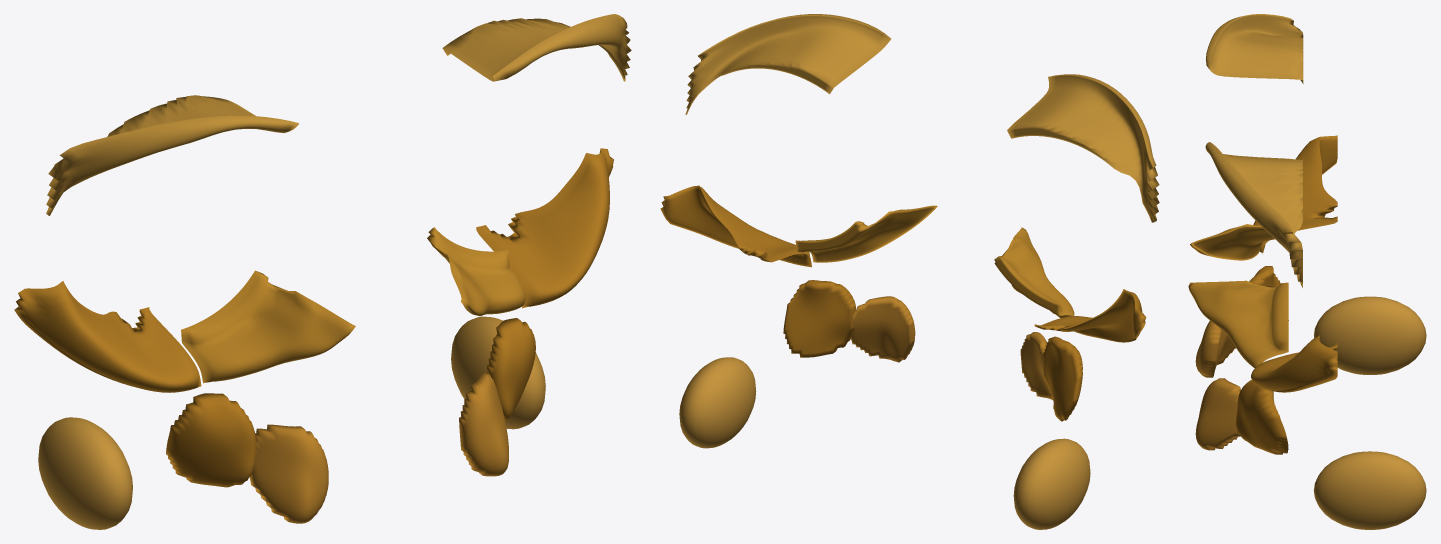
Rendered from lemak-dalam.glb.
3 renders of one model, left to right at view 1: azimuth 30°, elevation 25°; view 2: azimuth 150°, elevation 25°; view 3: azimuth 270°, elevation 25°, orthographic. The views are drawn at different scales.
Visible parts, largest first — view 1: lemak-dalam__soof-medial-r, lemak-dalam__soof-lateral-r, lemak-dalam__soof-lateral-l, lemak-dalam__roof-r, lemak-dalam__bantalan-lemak-bukal-r, lemak-dalam__roof-l, lemak-dalam__pipi-medial-dalam-lateral-r, lemak-dalam__pipi-medial-dalam-medial-r, lemak-dalam__soof-medial-l, lemak-dalam__bantalan-lemak-bukal-l, lemak-dalam__pipi-medial-dalam-medial-l, lemak-dalam__pipi-medial-dalam-lateral-l; view 2: lemak-dalam__roof-l, lemak-dalam__roof-r, lemak-dalam__bantalan-lemak-bukal-l, lemak-dalam__bantalan-lemak-bukal-r, lemak-dalam__soof-lateral-l, lemak-dalam__pipi-medial-dalam-lateral-l, lemak-dalam__pipi-medial-dalam-medial-l, lemak-dalam__soof-medial-l, lemak-dalam__soof-medial-r, lemak-dalam__soof-lateral-r, lemak-dalam__pipi-medial-dalam-lateral-r, lemak-dalam__pipi-medial-dalam-medial-r; view 3: lemak-dalam__bantalan-lemak-bukal-l, lemak-dalam__bantalan-lemak-bukal-r, lemak-dalam__roof-l, lemak-dalam__soof-medial-l, lemak-dalam__roof-r, lemak-dalam__soof-lateral-l, lemak-dalam__soof-lateral-r, lemak-dalam__pipi-medial-dalam-lateral-l, lemak-dalam__pipi-medial-dalam-medial-l, lemak-dalam__soof-medial-r, lemak-dalam__pipi-medial-dalam-medial-r, lemak-dalam__pipi-medial-dalam-lateral-r.
Part boxes in pixels (x1,y1,x2,y2): lemak-dalam__soof-medial-r: (181, 270, 355, 383); lemak-dalam__soof-lateral-r: (14, 281, 201, 392); lemak-dalam__soof-lateral-l: (476, 148, 613, 308); lemak-dalam__roof-r: (46, 95, 298, 215); lemak-dalam__bantalan-lemak-bukal-r: (38, 417, 132, 529); lemak-dalam__roof-l: (442, 14, 631, 81); lemak-dalam__pipi-medial-dalam-lateral-r: (166, 393, 256, 487); lemak-dalam__pipi-medial-dalam-medial-r: (249, 424, 328, 523); lemak-dalam__soof-medial-l: (427, 227, 525, 316); lemak-dalam__bantalan-lemak-bukal-l: (451, 316, 545, 429); lemak-dalam__pipi-medial-dalam-medial-l: (459, 372, 508, 476); lemak-dalam__pipi-medial-dalam-lateral-l: (487, 318, 535, 420); lemak-dalam__roof-l: (685, 14, 891, 114); lemak-dalam__roof-r: (1007, 74, 1159, 222); lemak-dalam__bantalan-lemak-bukal-l: (679, 357, 756, 448); lemak-dalam__bantalan-lemak-bukal-r: (1013, 438, 1090, 529); lemak-dalam__soof-lateral-l: (660, 185, 811, 267); lemak-dalam__pipi-medial-dalam-lateral-l: (783, 280, 856, 357); lemak-dalam__pipi-medial-dalam-medial-l: (850, 296, 915, 362); lemak-dalam__soof-medial-l: (795, 205, 937, 262); lemak-dalam__soof-medial-r: (994, 227, 1074, 318); lemak-dalam__soof-lateral-r: (1034, 289, 1146, 342); lemak-dalam__pipi-medial-dalam-lateral-r: (1043, 336, 1082, 421); lemak-dalam__pipi-medial-dalam-medial-r: (1020, 332, 1052, 399); lemak-dalam__bantalan-lemak-bukal-l: (1313, 451, 1426, 529); lemak-dalam__bantalan-lemak-bukal-r: (1314, 296, 1426, 374); lemak-dalam__roof-l: (1205, 142, 1302, 287); lemak-dalam__soof-medial-l: (1188, 280, 1288, 368); lemak-dalam__roof-r: (1206, 14, 1303, 83); lemak-dalam__soof-lateral-l: (1251, 335, 1337, 392); lemak-dalam__soof-lateral-r: (1253, 135, 1337, 254); lemak-dalam__pipi-medial-dalam-lateral-l: (1236, 380, 1288, 454); lemak-dalam__pipi-medial-dalam-medial-l: (1195, 378, 1240, 450); lemak-dalam__soof-medial-r: (1190, 224, 1274, 260); lemak-dalam__pipi-medial-dalam-medial-r: (1195, 321, 1235, 377); lemak-dalam__pipi-medial-dalam-lateral-r: (1249, 266, 1288, 320).
Size of the model in its own units: 10.82 by 8.08 by 4.86.
